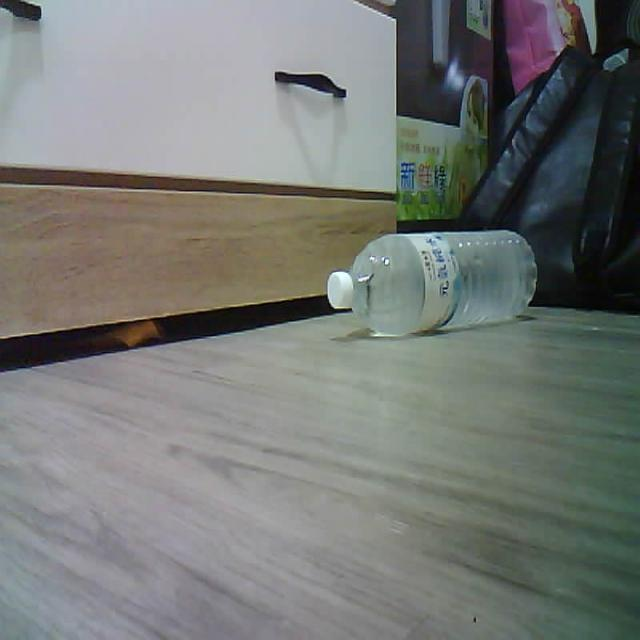bottle: (327, 231, 537, 335)
